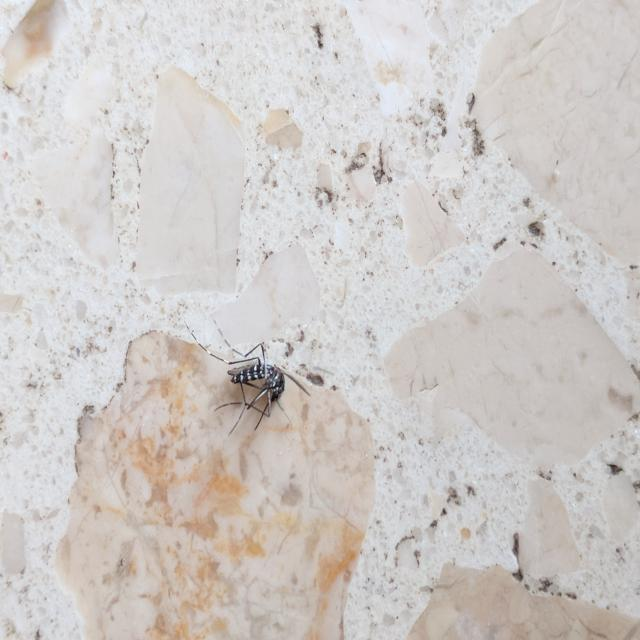albopictus: (168, 305, 316, 439)
